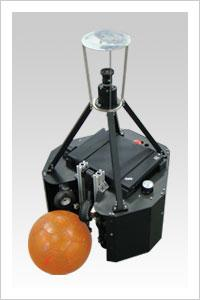robot: (45, 26, 171, 265)
